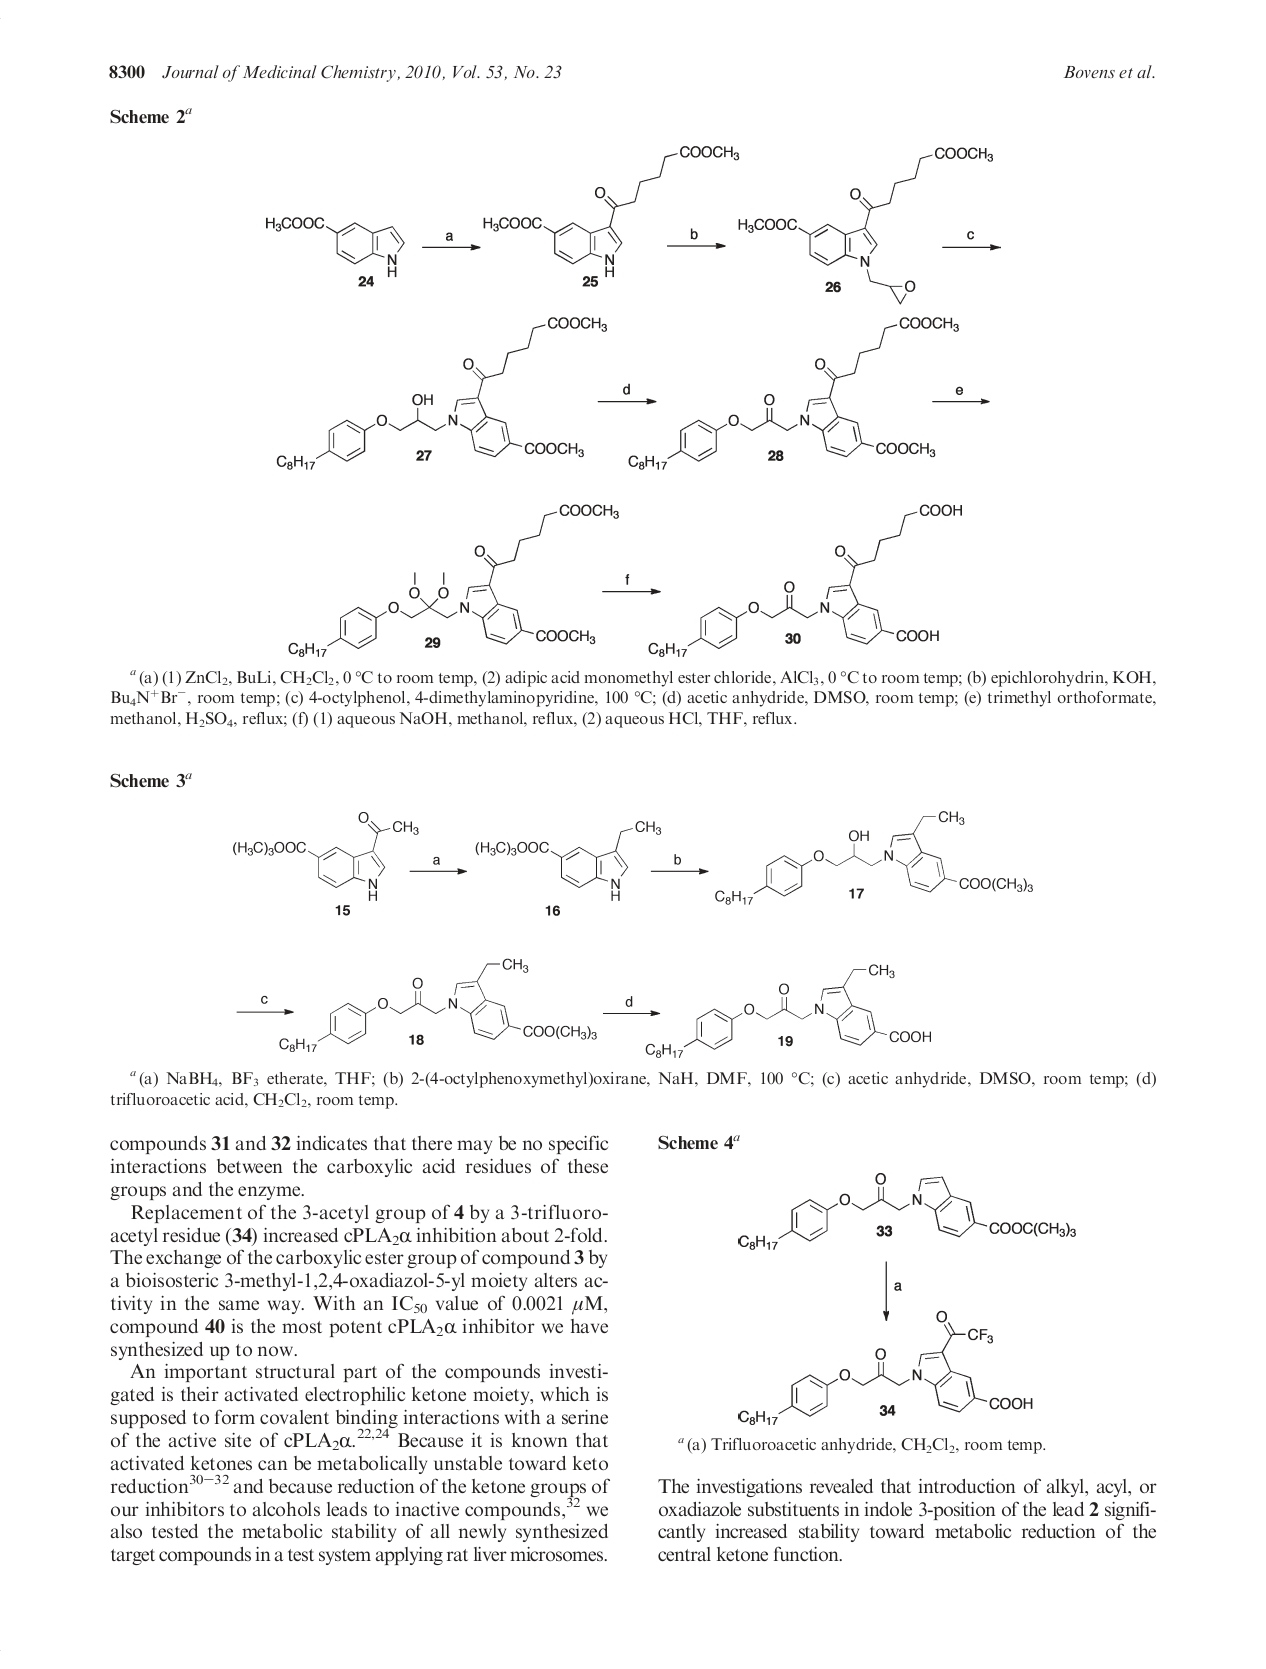exist_molecular: (287, 501, 621, 664), (277, 313, 610, 473), (625, 314, 961, 473), (648, 499, 964, 664), (737, 142, 997, 307), (483, 140, 743, 279), (735, 1309, 1035, 1427), (711, 809, 1037, 908), (277, 956, 601, 1055), (644, 962, 934, 1065), (733, 1170, 1078, 1254), (231, 806, 420, 902), (476, 818, 664, 904), (261, 213, 406, 279)
